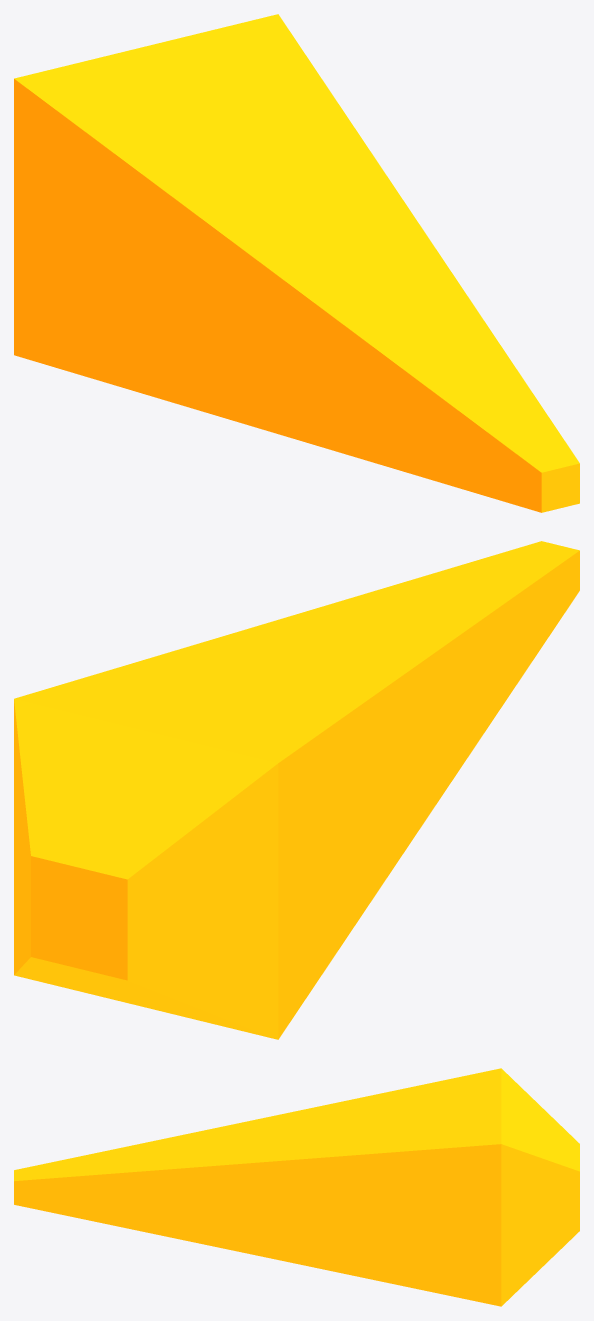
Rendered from muzzleFlash.fbx.
3 renders of one model, top to bottom at view 1: azimuth 30°, elevation 25°; view 2: azimuth 150°, elevation 25°; view 3: azimuth 270°, elevation 25°, orthographic. The views are drawn at different scales.
Visible parts, largest first — view 1: SA_FX_GunFlash; view 2: SA_FX_GunFlash; view 3: SA_FX_GunFlash.
Part boxes in pixels (box(x1,y1,x2,y2)): SA_FX_GunFlash: box(14, 14, 579, 512); SA_FX_GunFlash: box(14, 541, 579, 1039); SA_FX_GunFlash: box(14, 1068, 579, 1306).
Bounding box in the file's own units: 46.44 × 46.44 × 147.
1 material, 1 textured.
